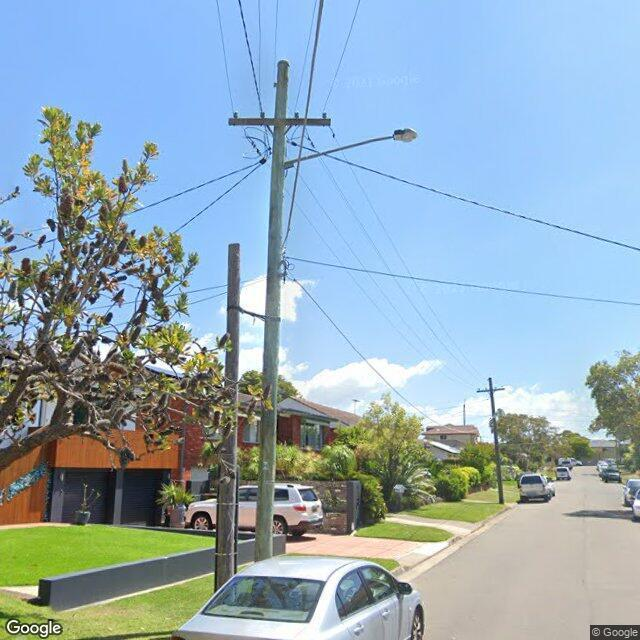crossarm: (226, 117, 332, 128), (476, 386, 506, 394)
streetlight: (282, 127, 420, 169)
timber-pole: (254, 60, 290, 562), (214, 244, 242, 594), (488, 377, 504, 504)
